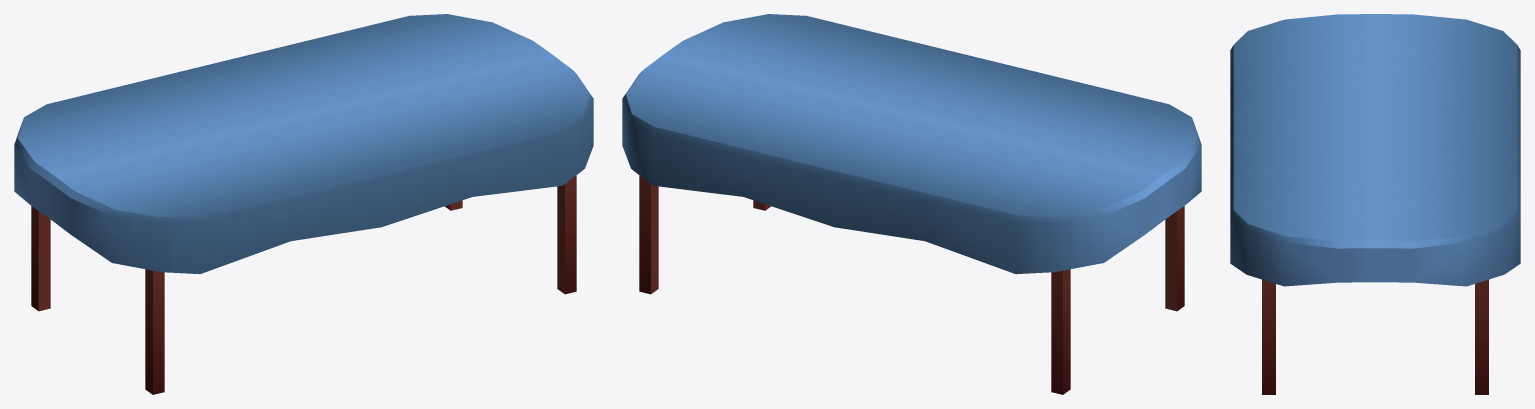
File: SM_Table_01.fbx
3 views of the same model, side by side, from view 1: azimuth 30°, elevation 25°; view 2: azimuth 150°, elevation 25°; view 3: azimuth 270°, elevation 25° (orthographic). The views are drawn at different scales.
Parts seen in each view (by area): view 1: SM_Table_01; view 2: SM_Table_01; view 3: SM_Table_01.
Part boxes in pixels (x1,y1,x2,y2): SM_Table_01: (14, 14, 593, 394); SM_Table_01: (622, 14, 1201, 394); SM_Table_01: (1230, 14, 1520, 394).
Bounding box in the file's own units: 2.41 × 0.8324 × 1.28.
